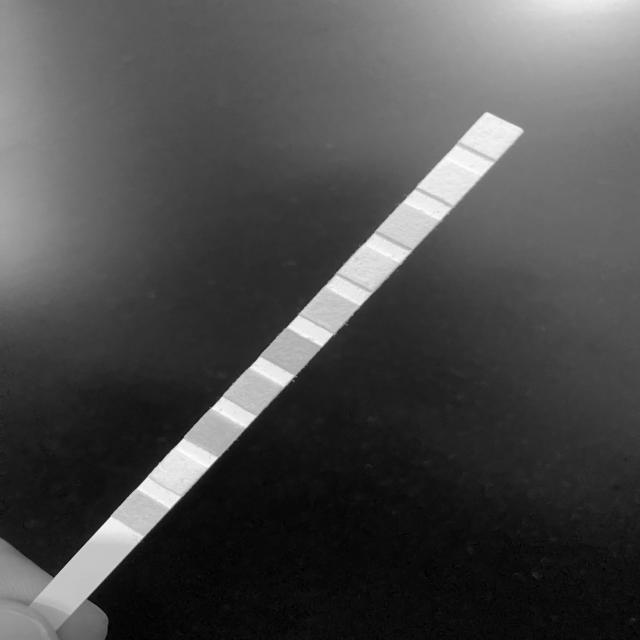Bilirubin: (162, 460, 194, 483)
Blood: (275, 340, 308, 363)
Glucose: (124, 502, 156, 525)
Ketone: (198, 423, 231, 445)
Leukocytes: (476, 125, 509, 147)
Nitrite: (432, 170, 466, 193)
Protein: (352, 257, 384, 280)
SpGravity: (237, 381, 270, 403)
Urobilinogen: (391, 215, 424, 238)
background: (0, 0, 640, 640)
pH: (314, 299, 346, 321)
strip: (30, 112, 526, 622)
